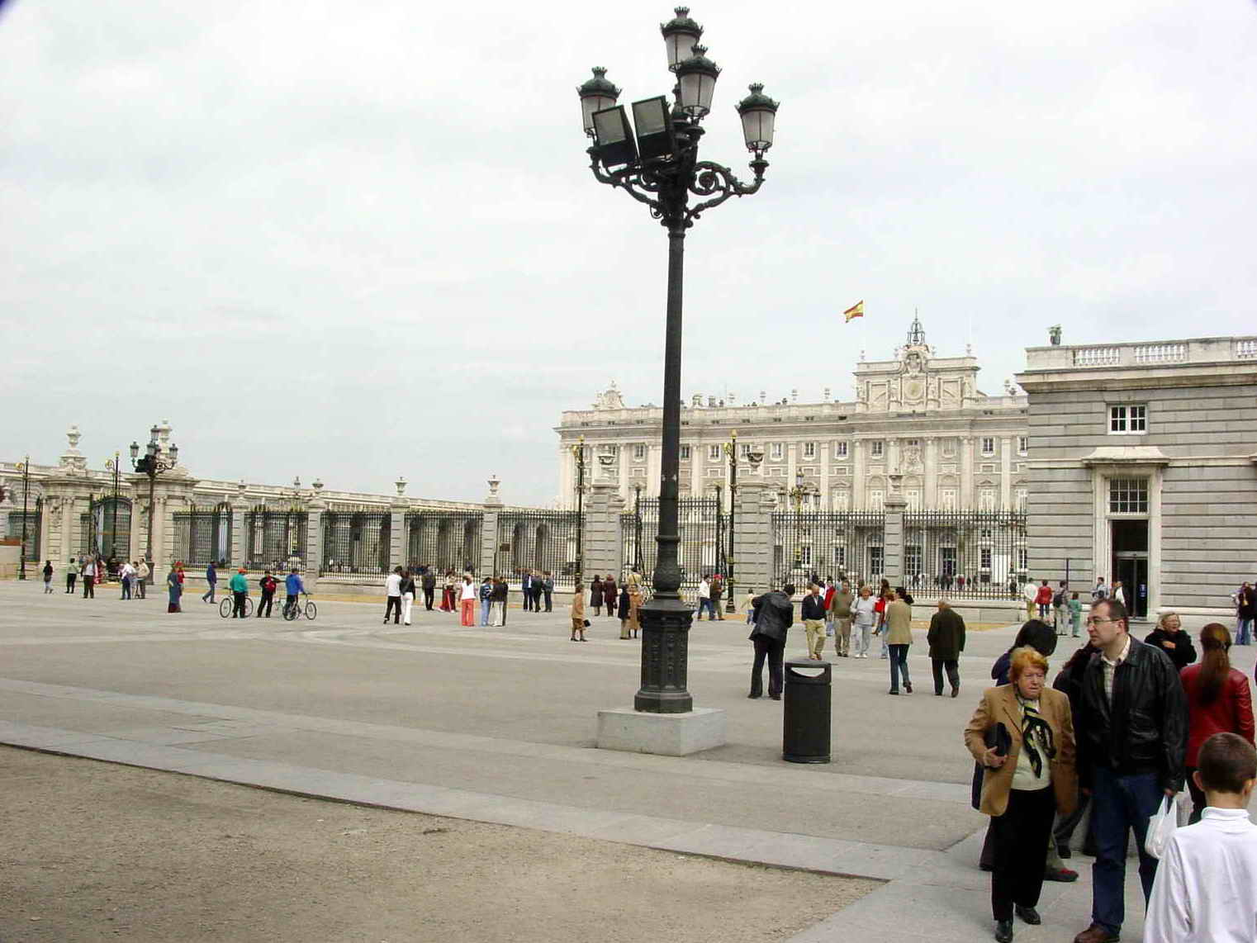fachada: (556, 317, 1257, 622), (0, 388, 570, 611)
poste: (562, 0, 774, 738)
